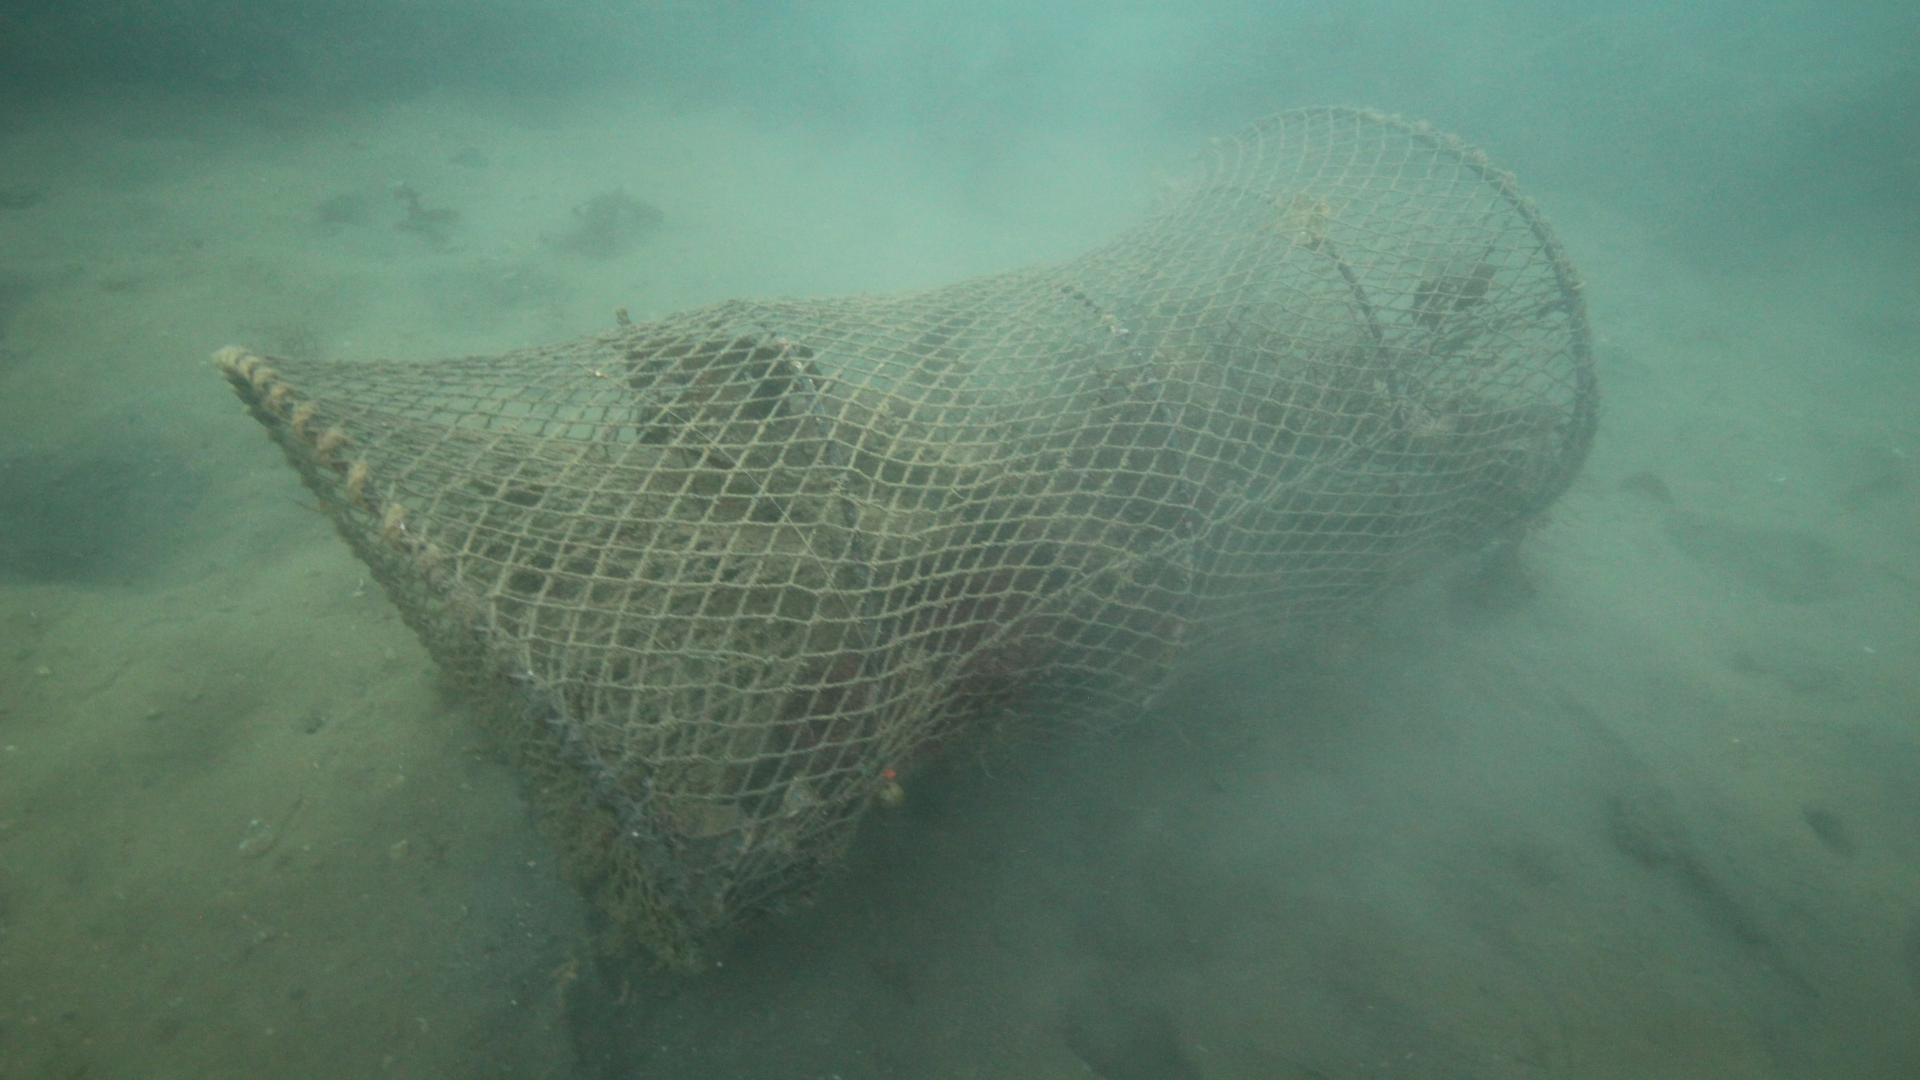spring fish trap: (211, 103, 1598, 976)
